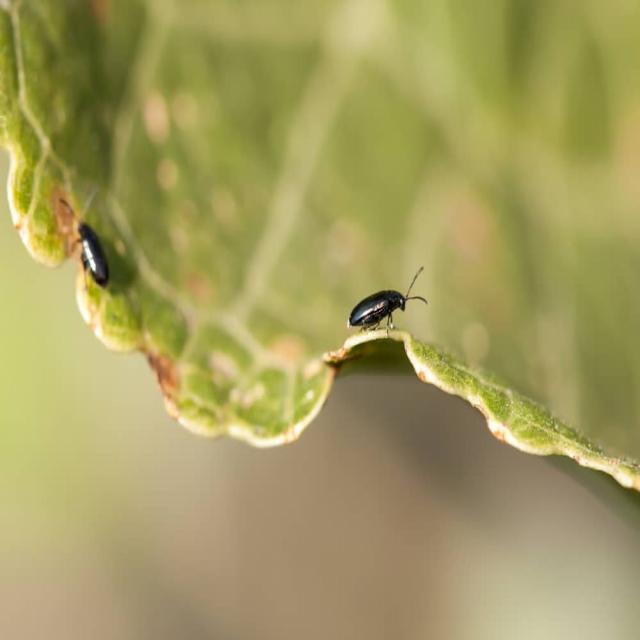flea_beetle: (340, 252, 441, 349), (55, 183, 124, 295)
